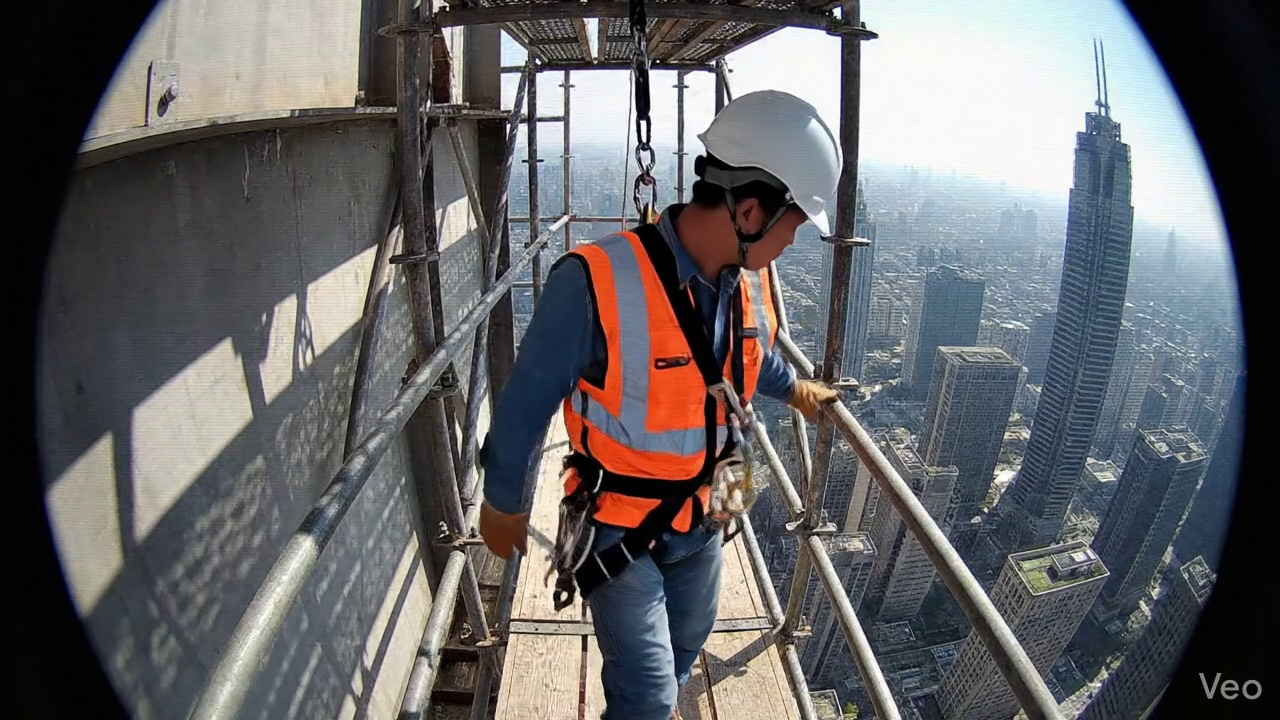person: (479, 90, 839, 719)
